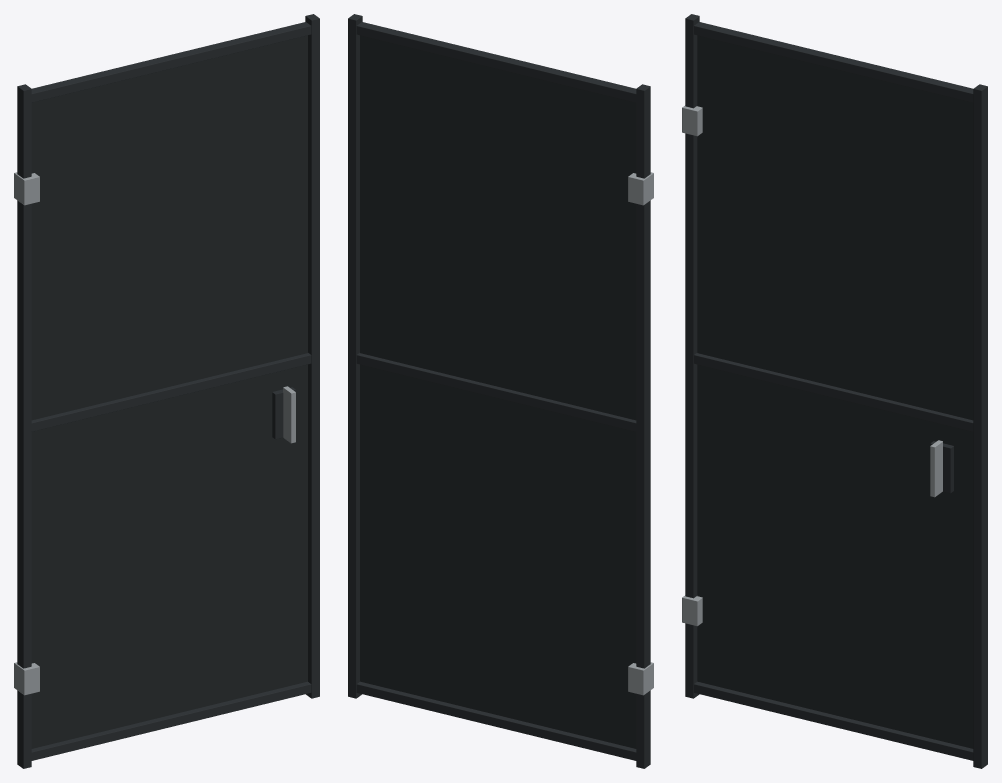
Rendered from cage-gate.glb.
3 renders of one model, left to right at view 1: azimuth 30°, elevation 25°; view 2: azimuth 150°, elevation 25°; view 3: azimuth 330°, elevation 25°, orthographic.
Parts seen in each view (by area): view 1: SquareGridScreen.001, CageSteelFrame.001, GateHingesHandle; view 2: SquareGridScreen.001, CageSteelFrame.001, GateHingesHandle; view 3: SquareGridScreen.001, CageSteelFrame.001, GateHingesHandle.
Boxes of the visible parts, x1,y1,x2,y2 form: SquareGridScreen.001: [31, 35, 307, 748]; CageSteelFrame.001: [17, 14, 319, 768]; GateHingesHandle: [14, 172, 295, 695]; SquareGridScreen.001: [360, 35, 636, 748]; CageSteelFrame.001: [348, 14, 650, 768]; GateHingesHandle: [628, 172, 653, 695]; SquareGridScreen.001: [697, 35, 973, 748]; CageSteelFrame.001: [685, 14, 987, 768]; GateHingesHandle: [682, 105, 953, 626].
Bounding box in the file's own units: 1.24 × 2.7 × 0.1425.
Materials: 3 (1 with a texture image).
